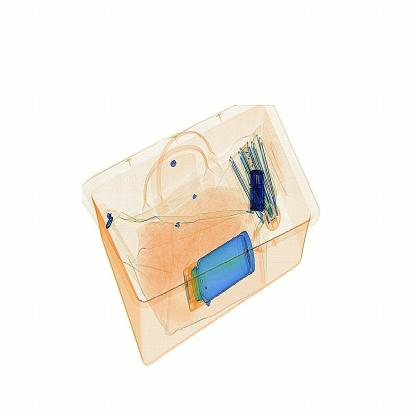scissors: (245, 156, 275, 216)
